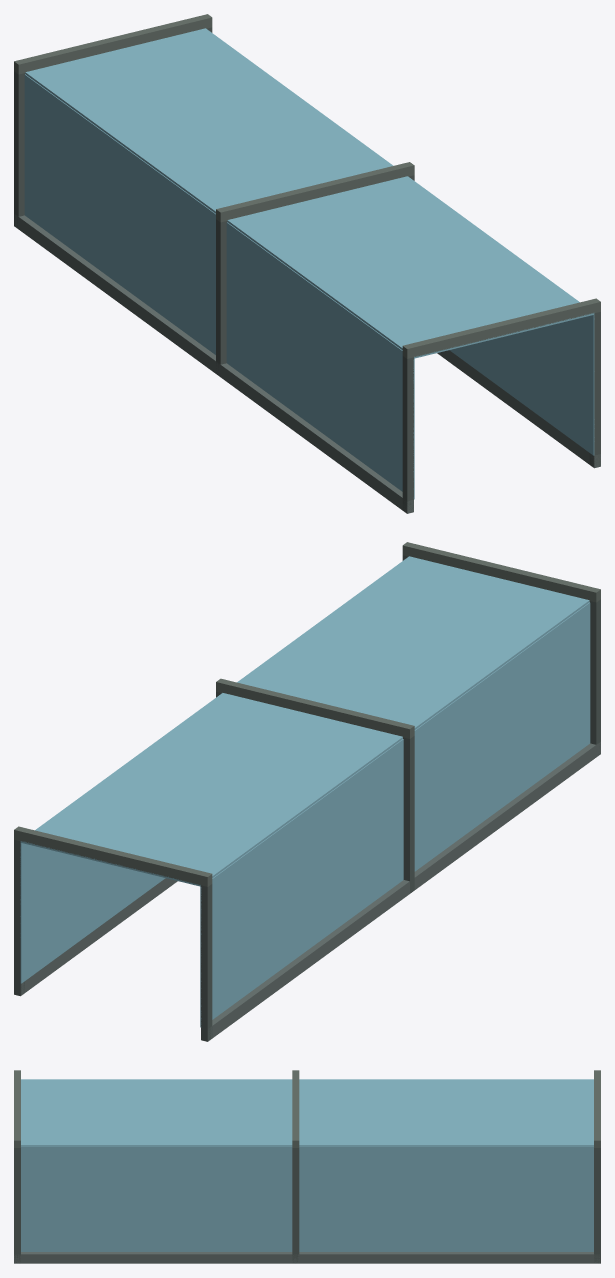
File: CMU3DInteriorCMUFighterCanopy.glb
3 renders of one model, top to bottom at view 1: azimuth 30°, elevation 25°; view 2: azimuth 150°, elevation 25°; view 3: azimuth 270°, elevation 25°, orthographic. The views are drawn at different scales.
Parts seen in each view (by area): view 1: transparent canopy roof, transparent canopy side (×2), canopy side rail (×2), canopy arch (×3), canopy upright (×4); view 2: transparent canopy roof, transparent canopy side (×2), canopy side rail (×2), canopy arch (×3), canopy upright (×4); view 3: transparent canopy side, transparent canopy roof, canopy side rail, canopy upright (×3), canopy arch (×3).
Part boxes in pixels (x1=…): transparent canopy roof: x1=25, y1=28, x2=594, y2=358; transparent canopy side (×2): x1=24, y1=74, x2=594, y2=499; canopy side rail (×2): x1=14, y1=214, x2=600, y2=513; canopy arch (×3): x1=14, y1=14, x2=600, y2=358; canopy upright (×4): x1=14, y1=71, x2=600, y2=513; transparent canopy roof: x1=20, y1=556, x2=589, y2=886; transparent canopy side (×2): x1=20, y1=602, x2=590, y2=1027; canopy side rail (×2): x1=21, y1=741, x2=600, y2=1040; canopy arch (×3): x1=14, y1=542, x2=600, y2=886; canopy upright (×4): x1=14, y1=599, x2=600, y2=1041; transparent canopy side: x1=21, y1=1146, x2=593, y2=1251; transparent canopy roof: x1=21, y1=1079, x2=593, y2=1146; canopy side rail: x1=14, y1=1252, x2=599, y2=1263; canopy upright (×3): x1=14, y1=1148, x2=600, y2=1263; canopy arch (×3): x1=14, y1=1070, x2=600, y2=1147.
Bounding box in the file's own units: 1.44 × 1.17 × 5.06.
